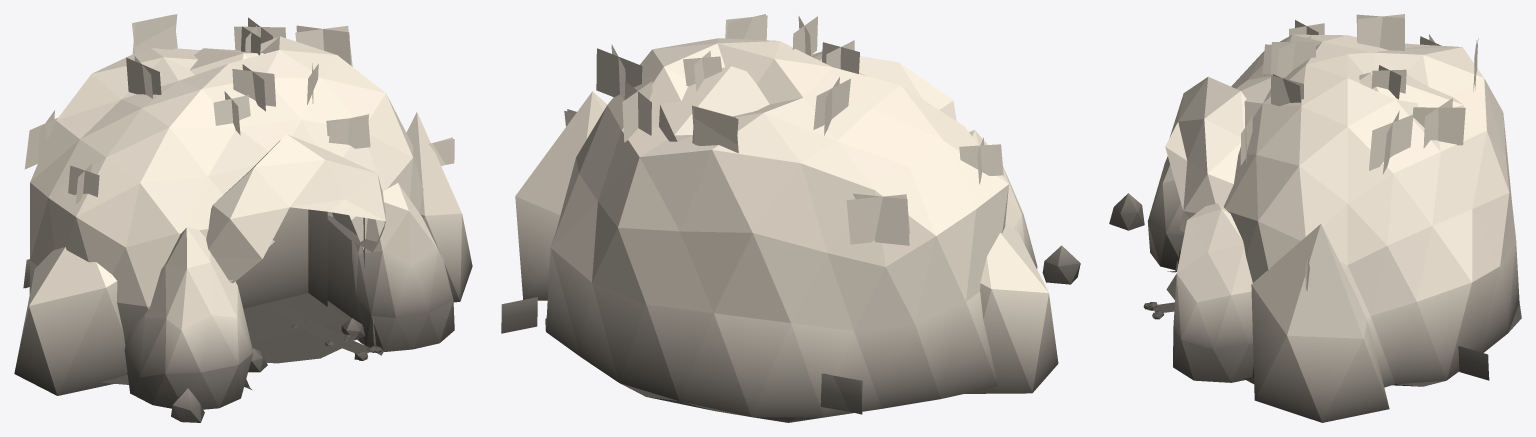
Rendered from SM_VK_Entrance_SpringCave.fbx.
The picture shows the model from 3 angles, left to right: view 1: azimuth 30°, elevation 25°; view 2: azimuth 150°, elevation 25°; view 3: azimuth 270°, elevation 25°; orthographic projection. The views are drawn at different scales.
Parts seen in each view (by area): view 1: SM_VK_Entrance_SpringCave.001; view 2: SM_VK_Entrance_SpringCave.001; view 3: SM_VK_Entrance_SpringCave.001.
Part boxes in pixels (x1,y1,x2,y2): SM_VK_Entrance_SpringCave.001: (14, 14, 472, 422); SM_VK_Entrance_SpringCave.001: (501, 14, 1080, 422); SM_VK_Entrance_SpringCave.001: (1109, 14, 1521, 422).
Size of the model in its own units: 8.22 by 4.6 by 6.38.
